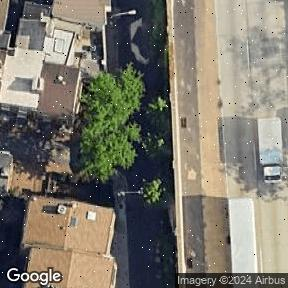vegetation: (77, 60, 170, 185), (144, 177, 165, 204)
